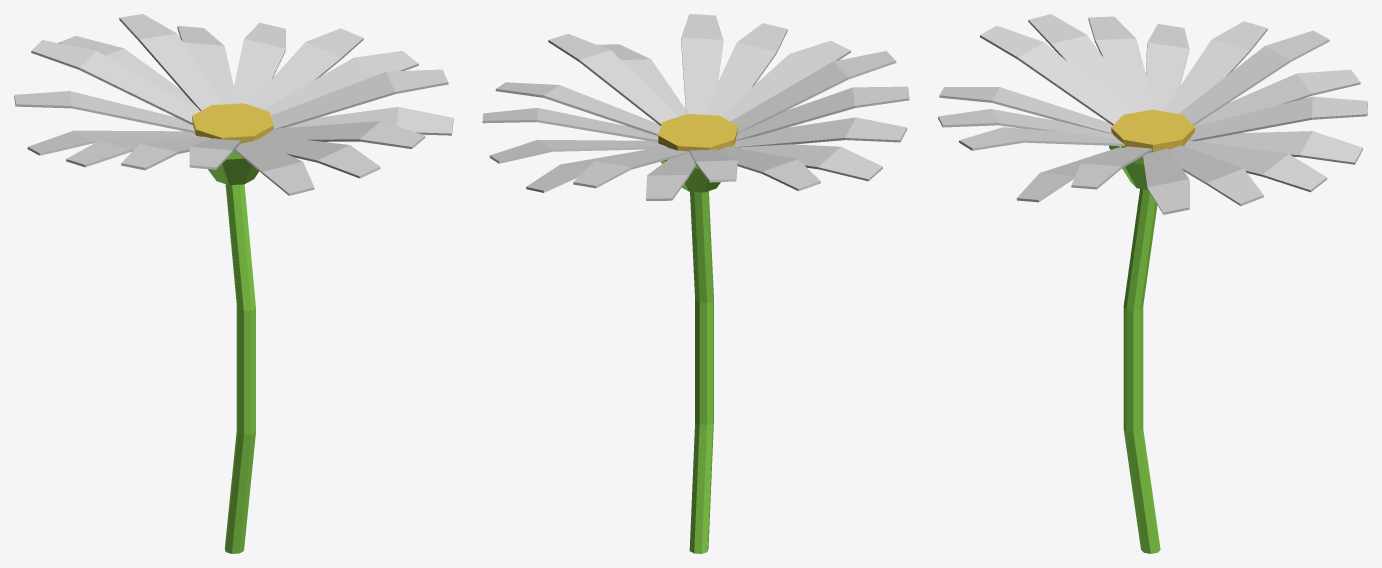
The model's file is daisy.glb.
The picture shows the model from 3 angles, left to right: view 1: azimuth 30°, elevation 25°; view 2: azimuth 150°, elevation 25°; view 3: azimuth 270°, elevation 25°; orthographic projection. The views are drawn at different scales.
Visible parts, largest first — view 1: Plane, daisy, Cylinder; view 2: Plane, daisy, Cylinder; view 3: Plane, daisy, Cylinder.
Part boxes in pixels (box(x1,y1,x2,y2)): Plane: box(14, 14, 453, 195); daisy: box(208, 150, 258, 553); Cylinder: box(192, 103, 273, 143); Plane: box(482, 14, 909, 200); daisy: box(661, 159, 720, 553); Cylinder: box(658, 114, 738, 152); Plane: box(938, 14, 1367, 214); daisy: box(1109, 145, 1160, 553); Cylinder: box(1111, 109, 1194, 152).
Bounding box in the file's own units: 0.7042 × 0.8313 × 0.6964.
